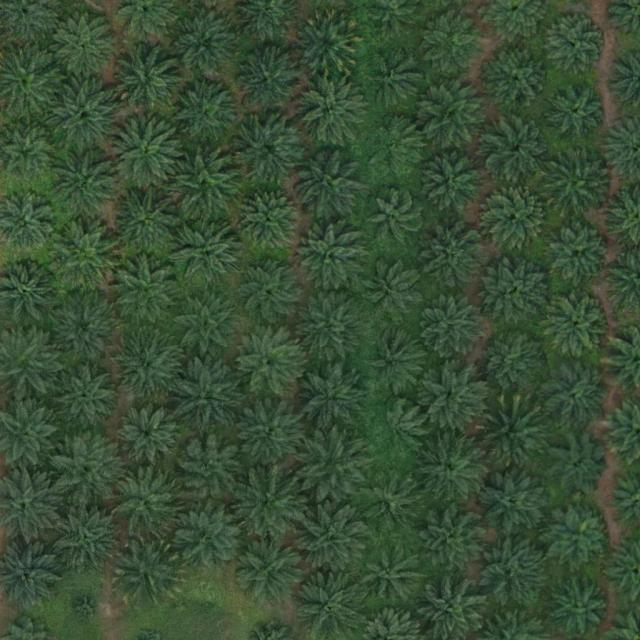Healthy: (51, 148, 122, 219), (112, 258, 183, 329), (484, 45, 555, 116), (234, 399, 305, 470), (232, 468, 303, 539), (235, 536, 306, 607), (170, 292, 241, 363), (174, 436, 245, 507), (114, 333, 185, 404), (52, 80, 122, 151), (52, 226, 122, 297), (110, 119, 181, 189), (168, 149, 238, 220), (173, 220, 243, 291), (232, 116, 302, 187), (235, 256, 305, 327), (295, 75, 366, 145), (292, 148, 363, 218), (295, 224, 365, 295), (421, 81, 491, 152), (545, 148, 615, 219), (478, 329, 548, 400), (477, 401, 547, 472), (479, 467, 550, 537), (477, 535, 547, 606), (414, 434, 485, 504), (297, 430, 367, 501), (299, 503, 369, 574), (295, 567, 365, 638), (172, 361, 242, 432), (49, 434, 119, 505), (52, 501, 122, 572), (113, 537, 183, 607), (170, 10, 240, 80), (49, 294, 119, 364), (112, 44, 182, 114), (112, 187, 182, 257), (169, 77, 239, 147), (297, 292, 367, 362), (419, 149, 489, 219), (419, 292, 489, 362), (484, 117, 554, 187), (484, 257, 554, 327), (420, 363, 490, 433), (418, 507, 488, 577), (296, 364, 366, 434), (234, 328, 304, 398), (177, 503, 247, 573), (112, 468, 182, 538), (54, 15, 117, 78), (424, 226, 487, 289), (485, 186, 548, 249), (549, 222, 612, 285), (549, 505, 612, 568), (547, 576, 610, 639), (117, 404, 180, 467), (236, 49, 298, 112), (238, 188, 300, 251), (548, 82, 610, 145), (545, 294, 607, 357), (543, 364, 605, 427), (549, 436, 611, 499), (365, 330, 427, 393), (362, 546, 425, 608), (56, 367, 118, 430), (427, 14, 489, 76), (546, 13, 608, 75), (360, 472, 422, 534), (368, 54, 423, 109), (367, 263, 422, 318), (371, 403, 426, 458), (370, 119, 424, 174), (367, 191, 421, 246)
Small: (73, 593, 104, 625), (193, 589, 224, 620)
Yellow: (293, 10, 363, 80)
